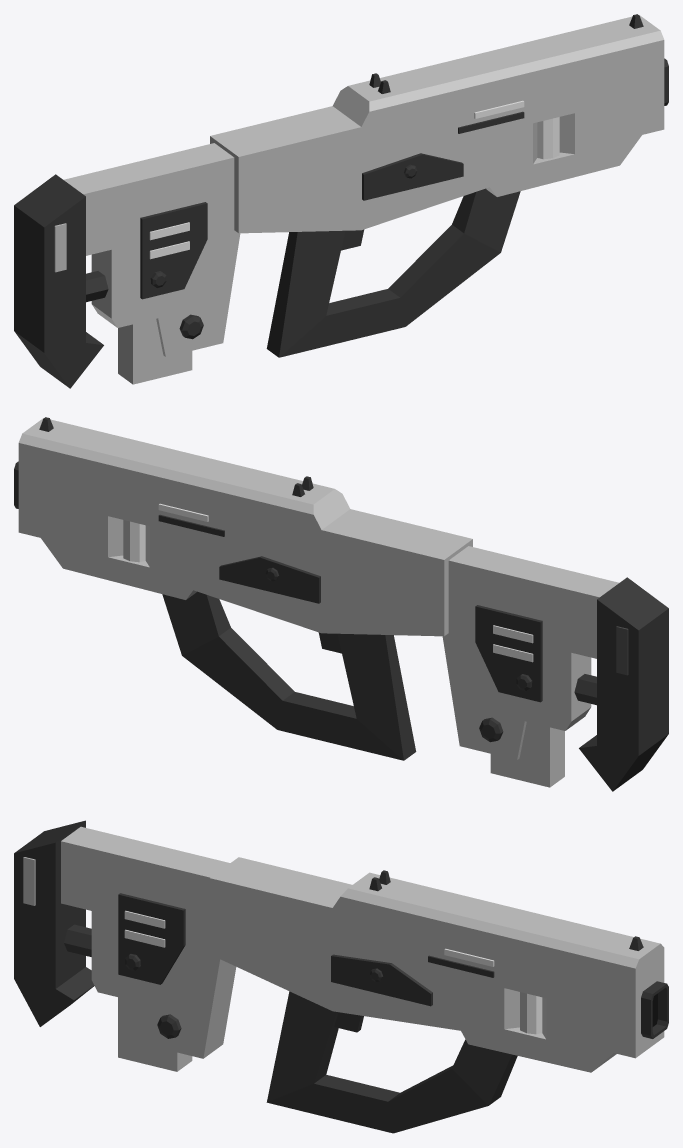
The model's file is Rifle_E_V4.FBX.
3 renders of one model, top to bottom at view 1: azimuth 30°, elevation 25°; view 2: azimuth 150°, elevation 25°; view 3: azimuth 330°, elevation 25°, orthographic.
Parts seen in each view (by area): view 1: Rifle_E_V4, Magazine; view 2: Rifle_E_V4, Magazine; view 3: Rifle_E_V4, Magazine.
Part boxes in pixels (x1,y1,x2,y2): Rifle_E_V4: [14, 14, 668, 388]; Magazine: [118, 319, 192, 384]; Rifle_E_V4: [14, 417, 668, 791]; Magazine: [490, 722, 564, 787]; Rifle_E_V4: [14, 820, 668, 1133]; Magazine: [118, 997, 192, 1071].
Size of the model in its own units: 340 by 128 by 34.55.
